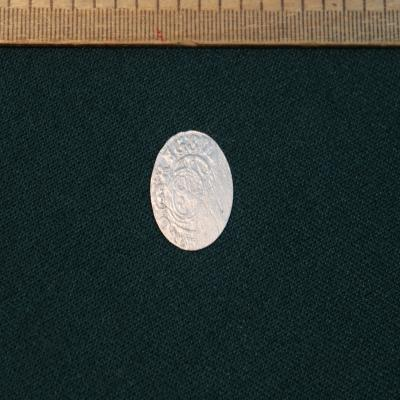numismatics: (150, 131, 233, 251)
